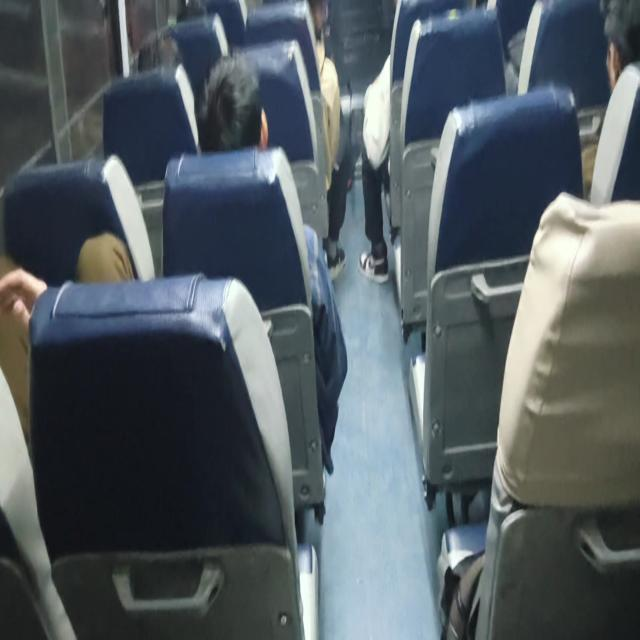person: (190, 66, 285, 151), (575, 0, 640, 82), (110, 37, 188, 82), (300, 0, 340, 38)
